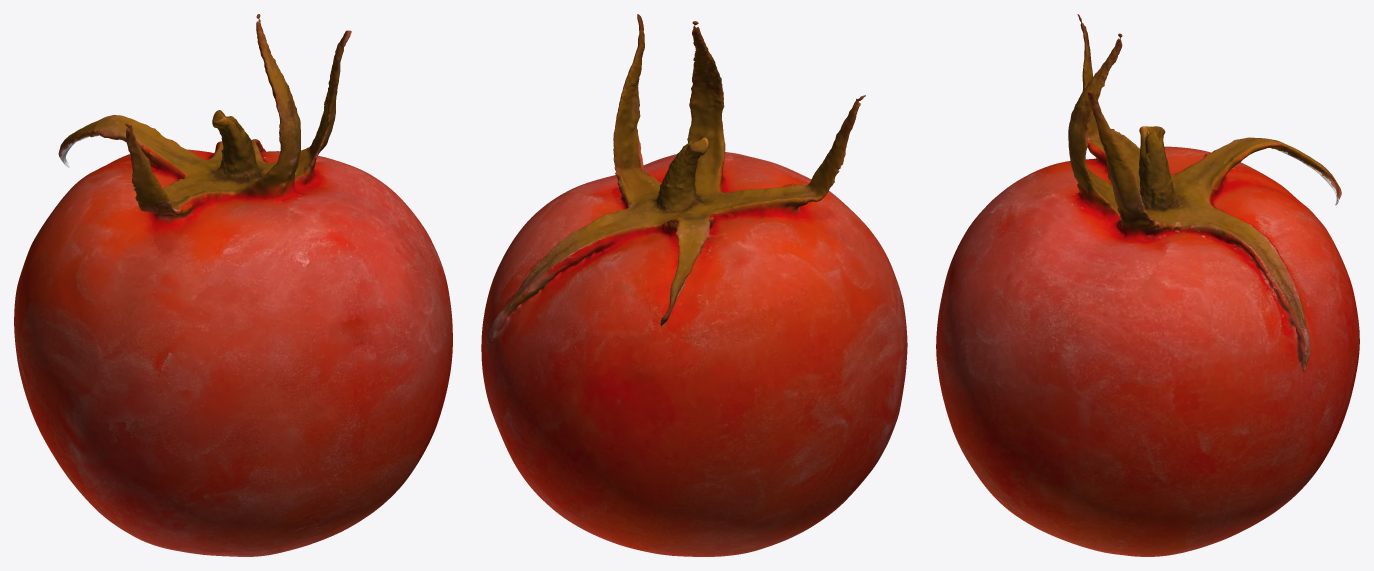
File: tomato_2-transformed.glb
3 views of the same model, side by side, from view 1: azimuth 30°, elevation 25°; view 2: azimuth 150°, elevation 25°; view 3: azimuth 270°, elevation 25° (orthographic). The views are drawn at different scales.
Parts seen in each view (by area): view 1: Object_2; view 2: Object_2; view 3: Object_2.
Part boxes in pixels (x1,y1,x2,y2): Object_2: (14,14,452,556); Object_2: (481,14,907,556); Object_2: (936,14,1359,556).
Size of the model in its own units: 2.28 by 2.98 by 2.29.
Materials: 2 (1 with a texture image).
